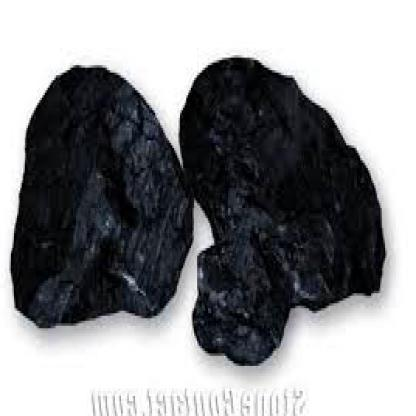Metamorphic_Marble: (182, 42, 405, 310), (1, 45, 191, 341), (190, 208, 296, 366)
